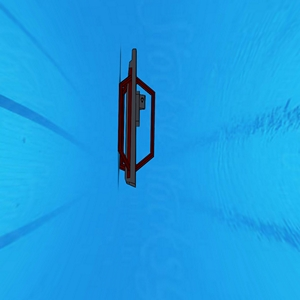submarine: (118, 48, 157, 187)
